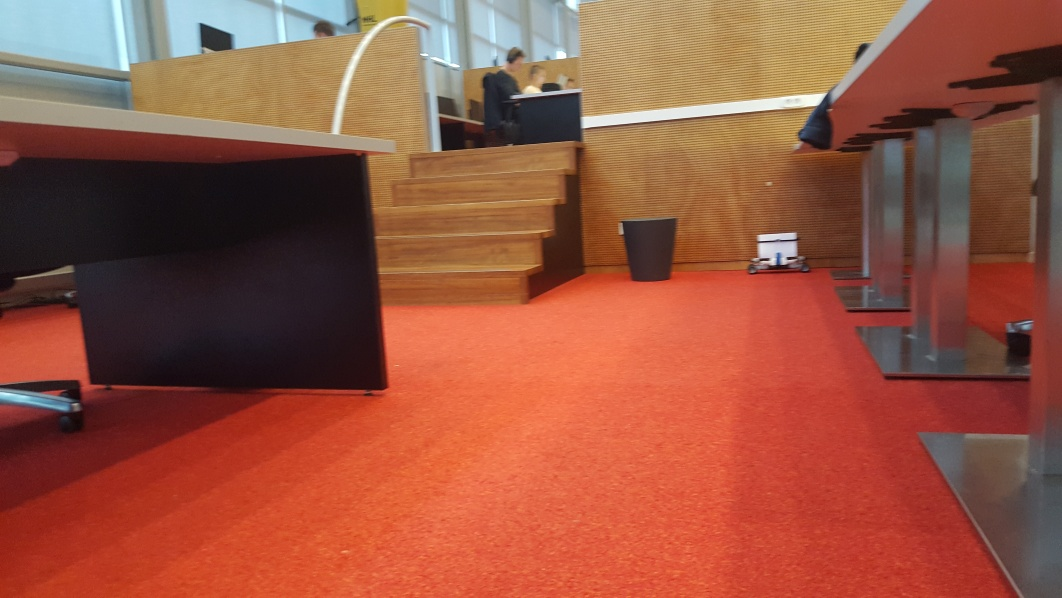car: (741, 229, 812, 276)
